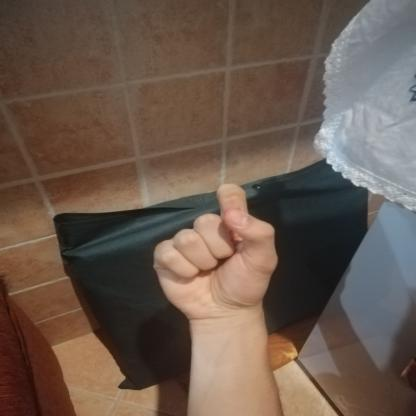FAA: (136, 177, 290, 332)
